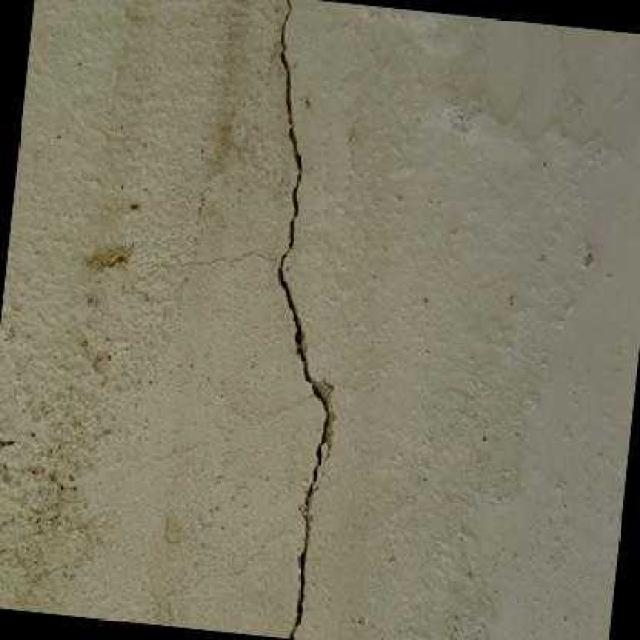D00: (275, 0, 327, 639)
